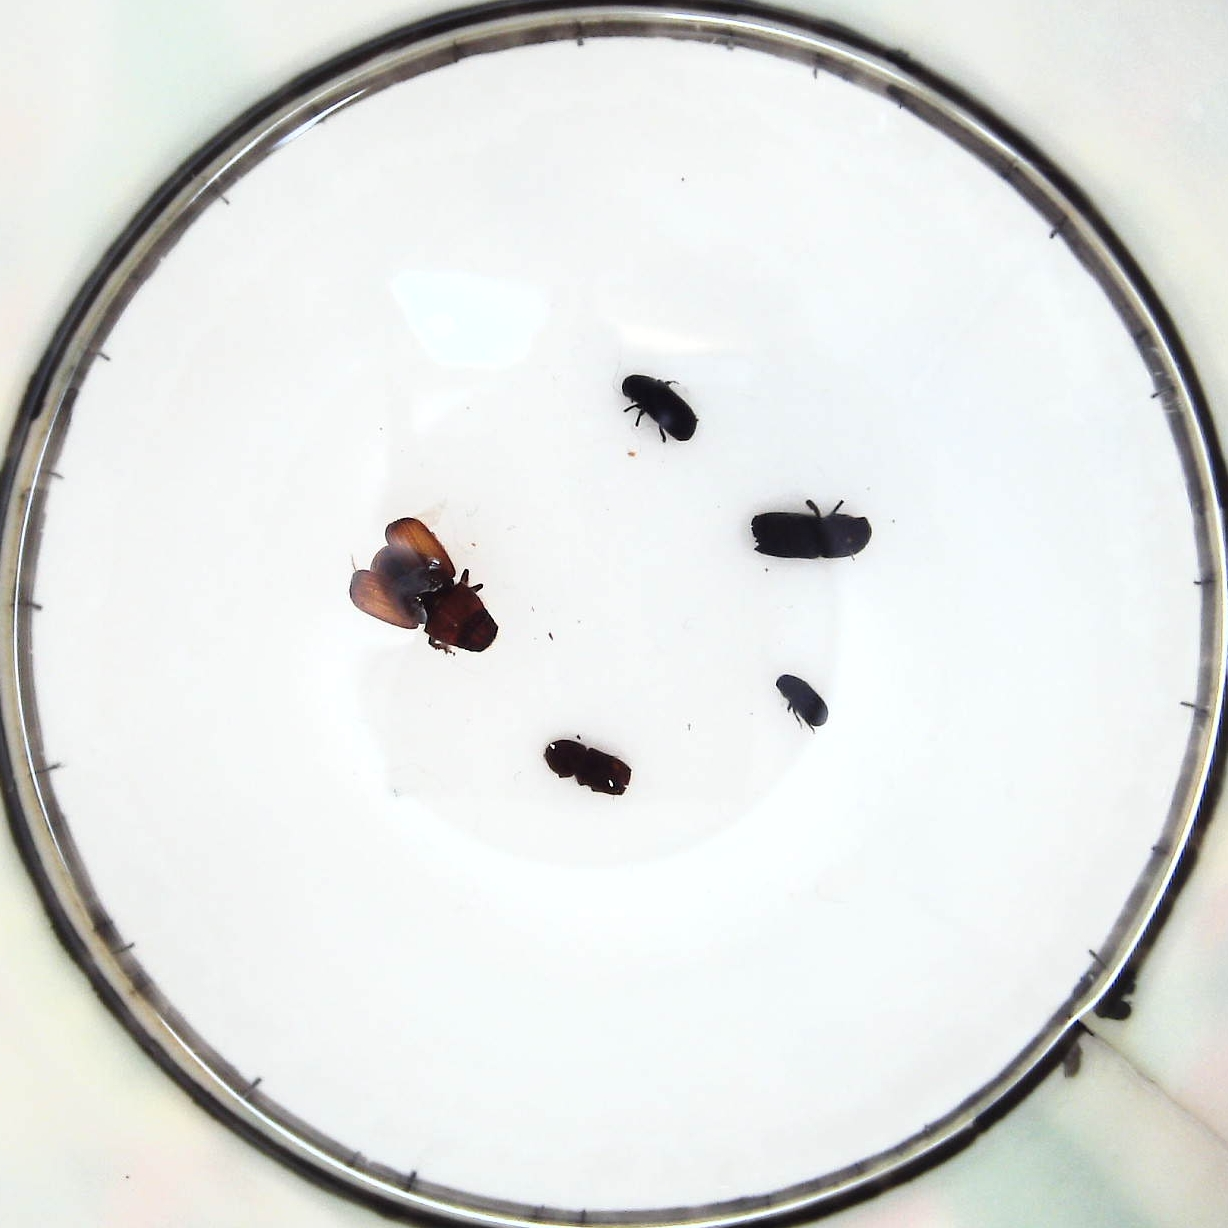Boerner: (752, 506, 872, 559)
Leconte: (344, 520, 498, 657)
Linnaeus: (544, 723, 639, 798)
armandi: (624, 372, 697, 440)
coleoptera: (773, 669, 832, 728)
